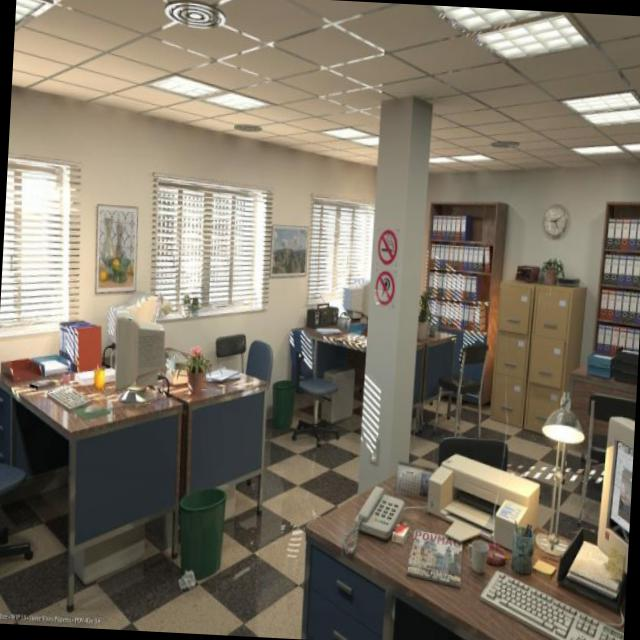2001: (151, 174, 272, 323), (2, 156, 81, 340), (305, 196, 375, 308)
ash tray: (487, 540, 507, 563)
binders: (58, 318, 101, 368), (428, 243, 490, 271), (428, 299, 482, 329), (598, 290, 640, 328), (429, 271, 476, 300), (602, 255, 640, 289), (607, 218, 640, 253), (595, 328, 636, 356), (430, 215, 466, 238)
bookshelf: (419, 201, 509, 408), (585, 200, 640, 460)
box contants: (615, 346, 636, 384), (587, 355, 612, 377)
ceiling: (164, 3, 226, 29)
ceiling beam: (13, 0, 640, 175)
ceiling vent: (439, 12, 592, 65), (148, 73, 274, 112), (560, 91, 640, 127), (321, 127, 378, 149), (571, 142, 640, 158), (16, 0, 55, 28), (425, 150, 494, 165)
chair -occluded-: (289, 327, 342, 451), (456, 341, 491, 435), (0, 461, 32, 560), (439, 436, 509, 468), (246, 339, 271, 386), (216, 333, 246, 372)
cigarettes: (393, 524, 408, 546)
clock crop: (541, 202, 569, 239)
computer crop: (321, 369, 353, 423)
computer screen: (597, 416, 633, 576), (114, 309, 163, 403), (343, 276, 369, 326)
cup and saucer: (512, 528, 534, 572)
desk calendar: (298, 455, 626, 640), (0, 341, 181, 608), (114, 344, 266, 516), (300, 319, 425, 429), (571, 358, 635, 451), (412, 324, 457, 414)
desk counter top: (394, 460, 434, 497)
file box: (169, 363, 186, 384)
files: (558, 278, 580, 287)
filing cabinet: (524, 279, 585, 432), (492, 277, 536, 431)
floor -X: (0, 371, 634, 640)
jar -X: (94, 369, 104, 391)
keyboard crop: (479, 568, 619, 640), (48, 382, 87, 411), (164, 349, 184, 369)
lamp crop: (536, 393, 584, 557)
lighter: (398, 520, 407, 533)
magazine holder: (407, 529, 460, 585)
mouse: (73, 399, 108, 420)
mouse pad: (88, 403, 102, 412)
mug: (468, 542, 485, 571)
notebook: (29, 377, 55, 389)
painting crop: (96, 204, 138, 293), (270, 223, 310, 278)
paper napkins: (557, 524, 623, 610), (1, 360, 44, 382), (33, 352, 72, 374), (515, 262, 540, 282)
papers: (567, 541, 618, 596), (74, 365, 116, 384), (206, 367, 240, 384), (317, 325, 339, 334)
pens: (515, 521, 534, 534)
pillar: (357, 92, 433, 493)
plant -x: (185, 347, 210, 396), (416, 284, 433, 337), (541, 259, 564, 288)
post it note: (607, 546, 625, 574)
post it notes: (533, 559, 555, 573)
printer: (428, 452, 540, 550)
radio alarm clock: (308, 305, 337, 325)
sign: (371, 225, 397, 306)
telephone booth: (341, 485, 404, 554)
trash can: (179, 571, 195, 586)
trash compactor: (180, 486, 226, 571), (273, 378, 295, 427)
wall clock: (0, 90, 404, 502), (392, 169, 640, 455)
